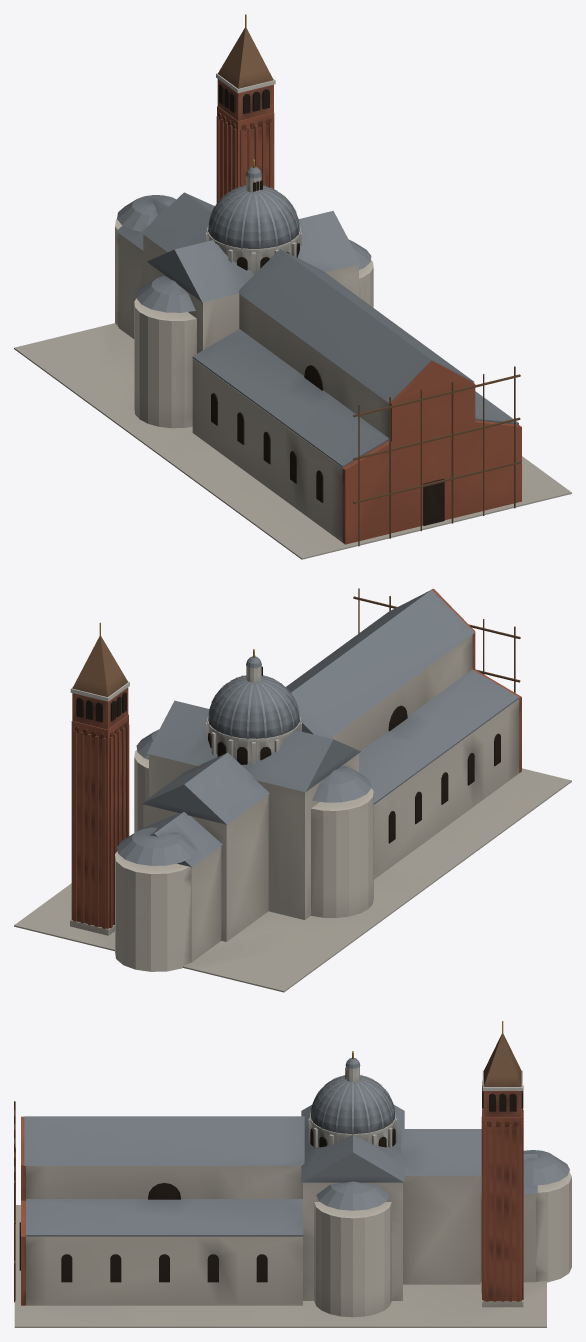
File: san-giorgio-1580.glb
3 renders of one model, top to bottom at view 1: azimuth 30°, elevation 25°; view 2: azimuth 150°, elevation 25°; view 3: azimuth 270°, elevation 25°, orthographic. The views are drawn at different scales.
Visible parts, largest first — view 1: p1_roofs, p0_walls, p2_dome; view 2: p0_walls, p1_roofs, p2_dome; view 3: p0_walls, p1_roofs, p2_dome.
Part boxes in pixels (x1,y1,x2,y2): p1_roofs: (116,192,521,546); p0_walls: (14,219,571,559); p2_dome: (206,14,301,274); p0_walls: (14,634,571,992); p1_roofs: (116,588,521,867); p2_dome: (70,622,301,935); p0_walls: (14,1166,571,1327); p1_roofs: (14,1101,569,1305); p2_dome: (308,1021,523,1307).
Size of the model in its own units: 52 by 55.49 by 101.
